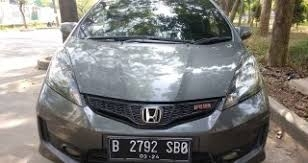plate: (109, 136, 192, 162)
